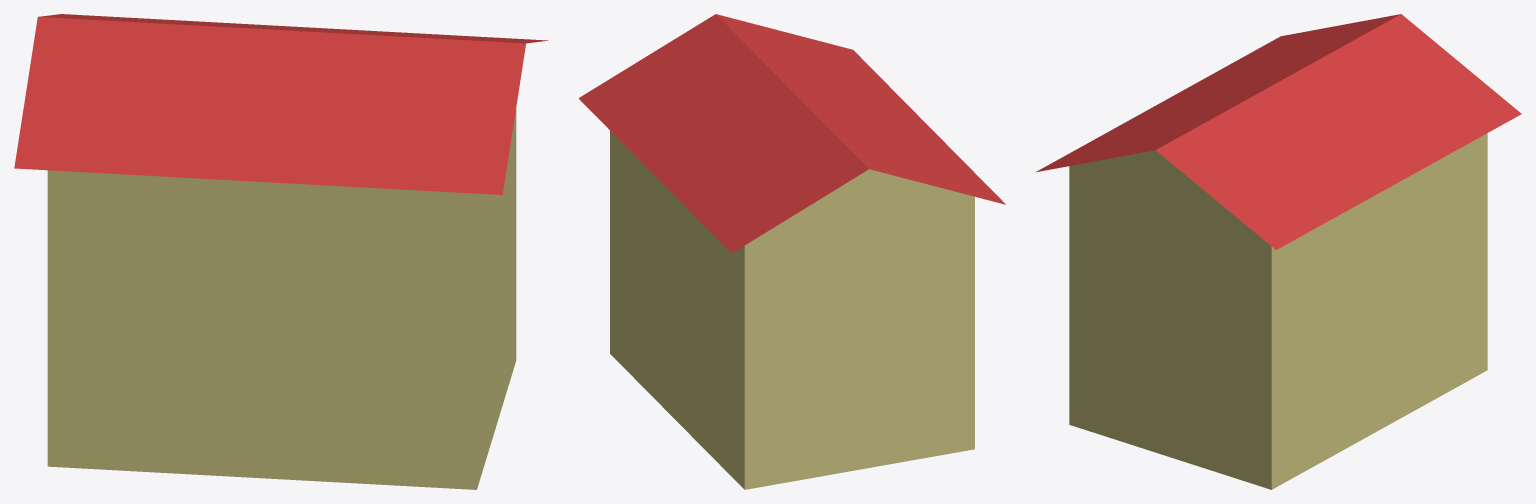
The picture shows the model from 3 angles, left to right: view 1: azimuth 30°, elevation 25°; view 2: azimuth 150°, elevation 25°; view 3: azimuth 270°, elevation 25°; orthographic projection. The views are drawn at different scales.
Parts seen in each view (by area): view 1: group_5, group_3, group_4; view 2: group_5, group_3, group_4; view 3: group_5, group_3, group_4.
Boxes of the visible parts, bbox=[...] form: group_5: bbox=[47, 108, 516, 489]; group_3: bbox=[14, 14, 548, 194]; group_4: bbox=[38, 14, 522, 194]; group_5: bbox=[610, 131, 974, 489]; group_3: bbox=[578, 14, 1005, 252]; group_4: bbox=[686, 14, 949, 252]; group_5: bbox=[1069, 133, 1487, 489]; group_3: bbox=[1036, 14, 1521, 249]; group_4: bbox=[1156, 14, 1521, 170].
Size of the model in its own units: 15.46 by 14.88 by 10.64.
